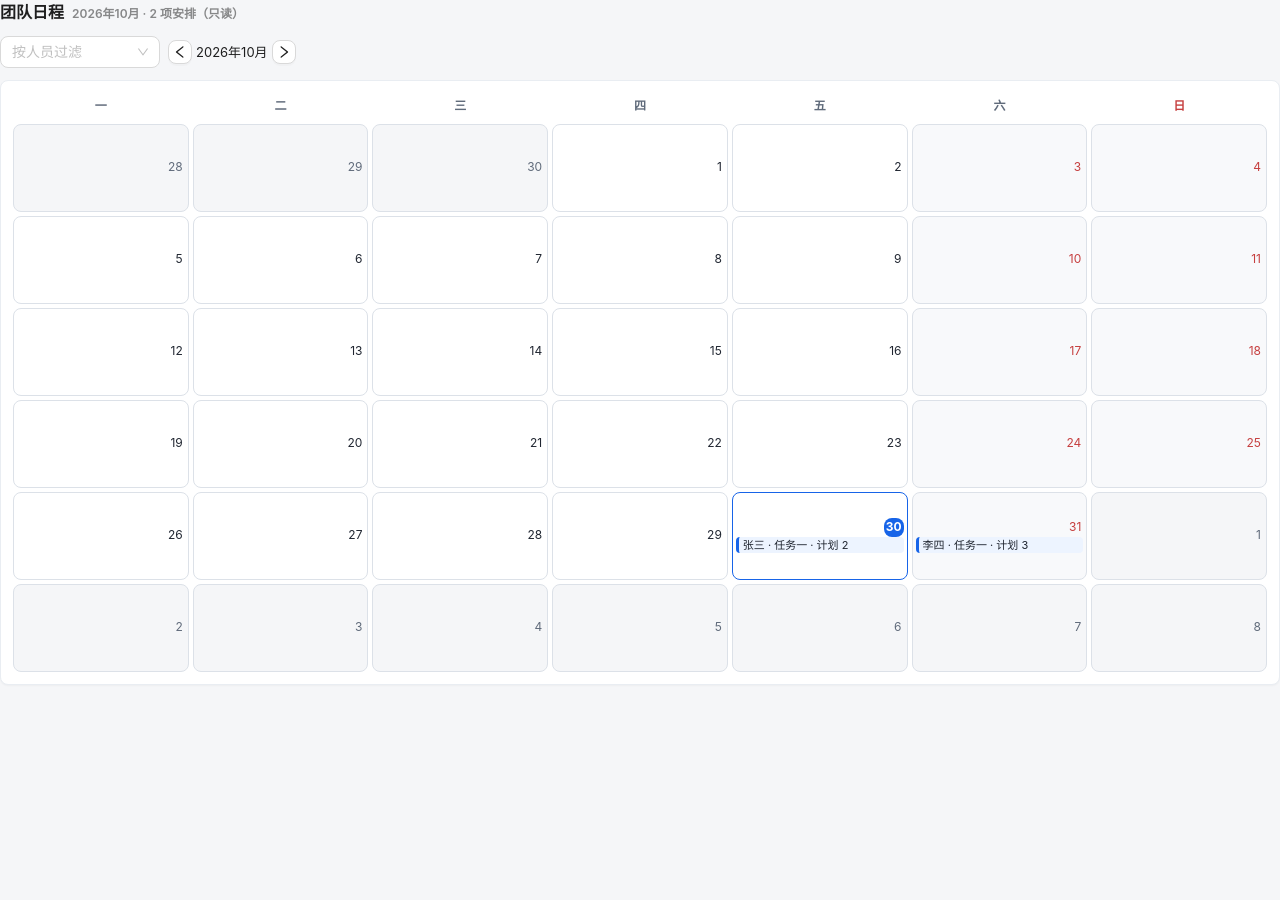
Test: 团队日程（HYPE-88，只读） › 当天明细 Drawer（HYPE-91，只读） › 状态与锁定 Tag：已锁定条目显示「已锁定」；数量达标显示「已完成」
The image size is (1280, 900).
Click the button "31 李四 · 任务一 · 计划 3" at x=999, y=536, box [912, 492, 1087, 580]
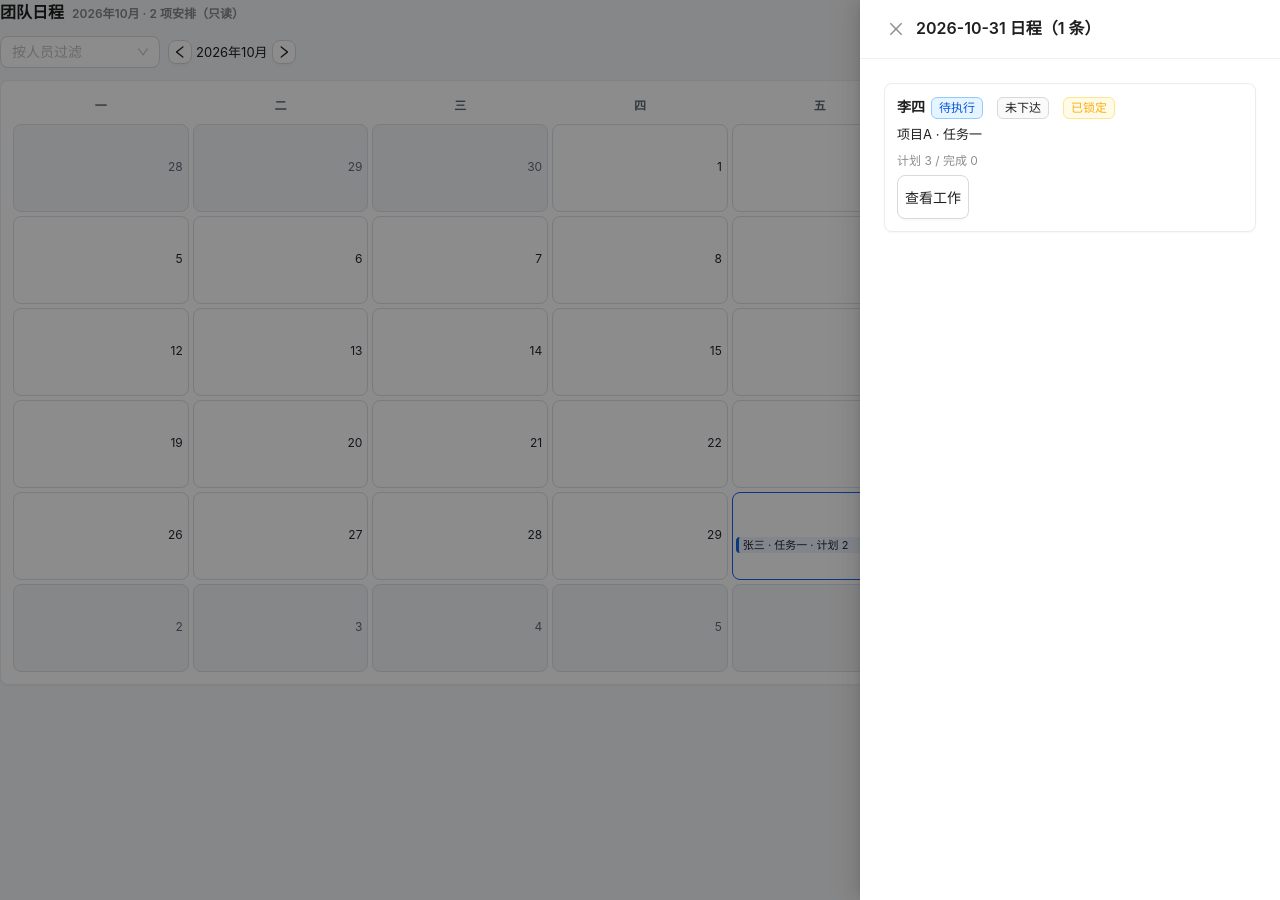
Now the text "已锁定" is shown, box [1063, 97, 1115, 119]
Now the text "未下达" is shown, box [997, 97, 1049, 119]
